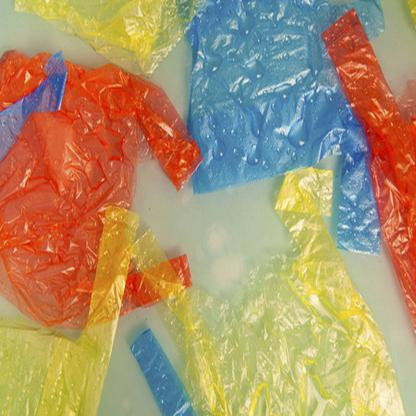plastic bag: (138, 166, 404, 416), (1, 40, 195, 324), (189, 7, 388, 254), (1, 198, 130, 414), (12, 1, 188, 74)
